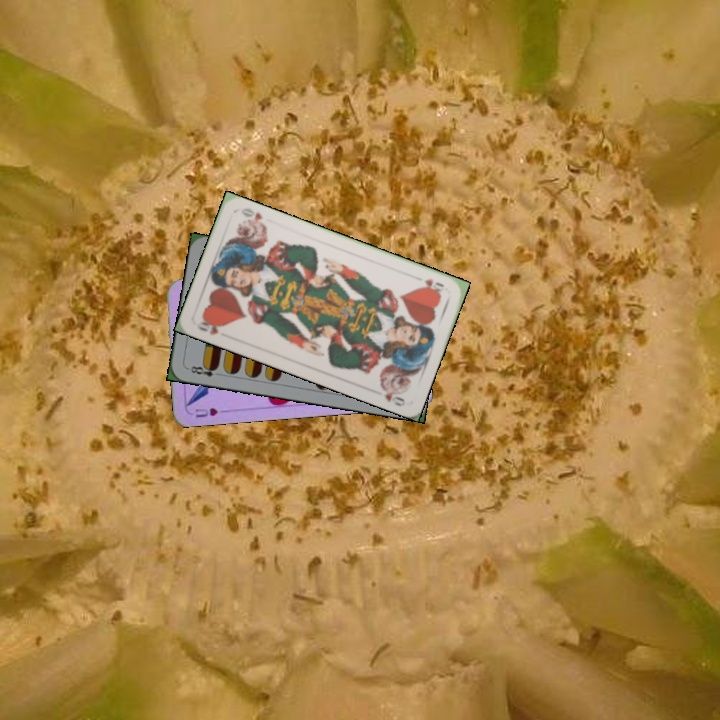E8: (184, 361, 224, 379)
HO: (192, 315, 227, 338), (417, 274, 446, 296)
HU: (191, 404, 220, 420)
